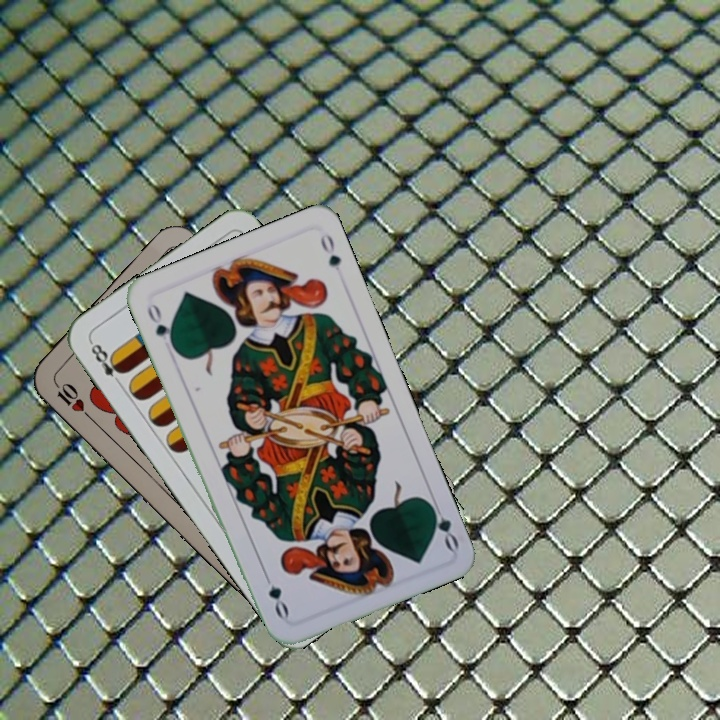E8: (86, 338, 128, 390)
GO: (424, 496, 462, 553), (143, 299, 178, 353)
H10: (49, 376, 96, 423)
